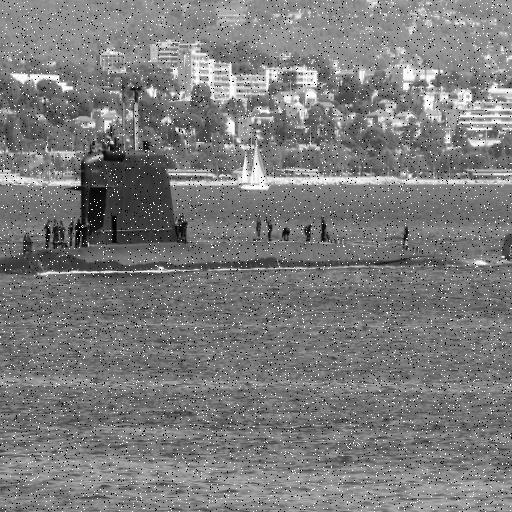submarine: (1, 157, 512, 267)
